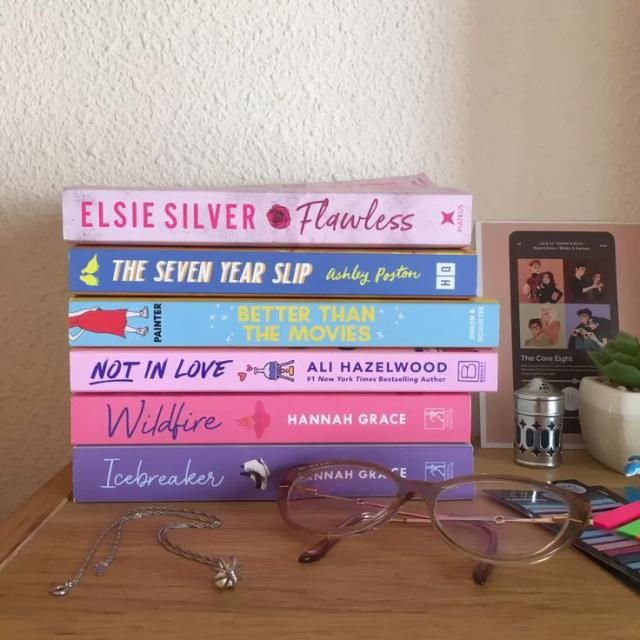book: (63, 185, 471, 248), (73, 443, 472, 502), (70, 297, 498, 347), (71, 393, 470, 445), (70, 250, 476, 296), (70, 349, 497, 392), (322, 470, 393, 494)
